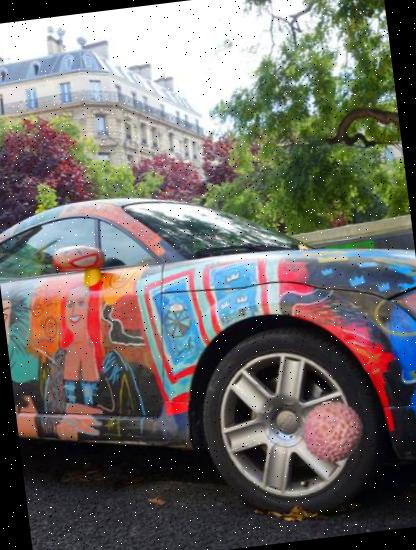Lychee: (298, 398, 368, 468)
